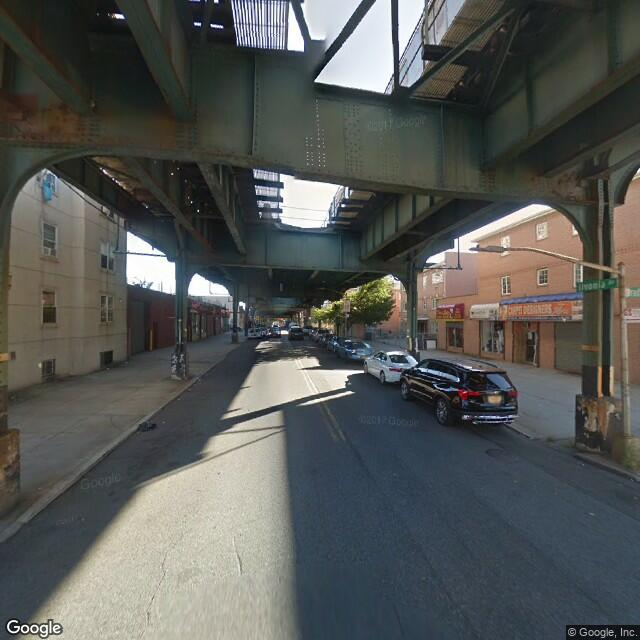litter: (140, 423, 157, 429), (587, 508, 598, 513)
